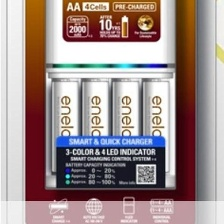battery: (78, 74, 115, 177), (108, 77, 144, 177), (49, 74, 84, 175), (140, 76, 171, 175)
